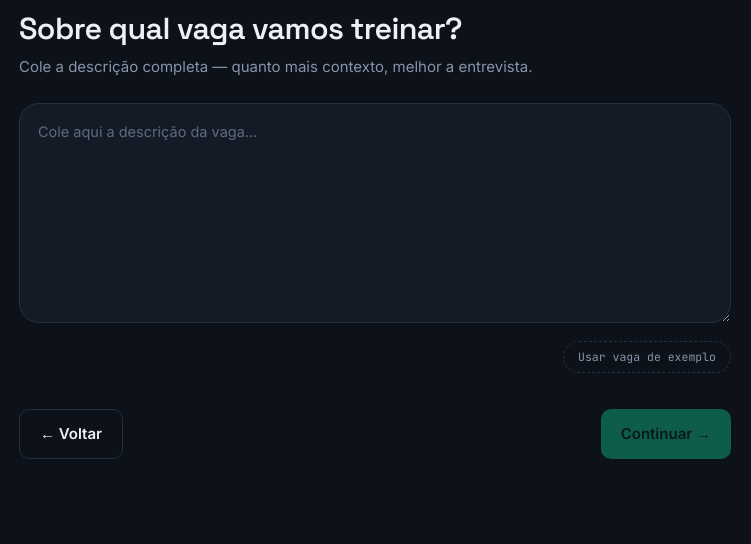
Test: describeLengthProblem (via rendered length-problem message) › shows exact missing-character count for 1 chars (missing 49)
Type "a" into the text box labelled "descrição da vaga". click: (375, 213)
box: [19,103,731,323]
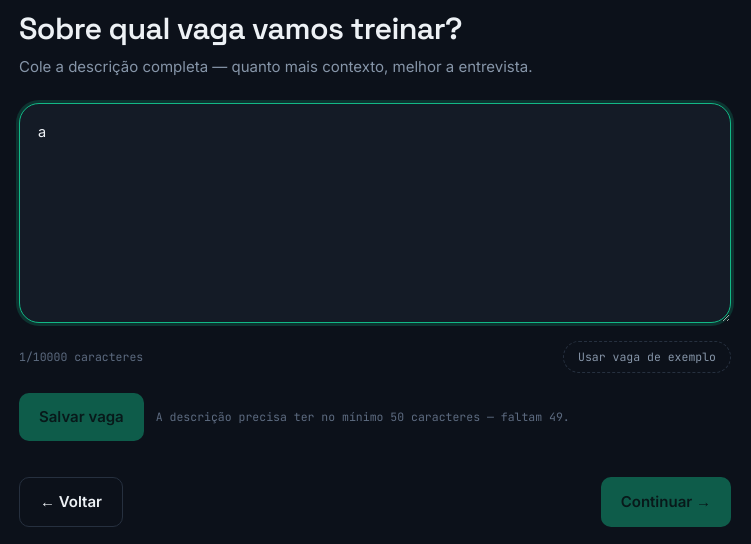
Expected: the button "Salvar vaga" is disabled, [19,393,144,441]
